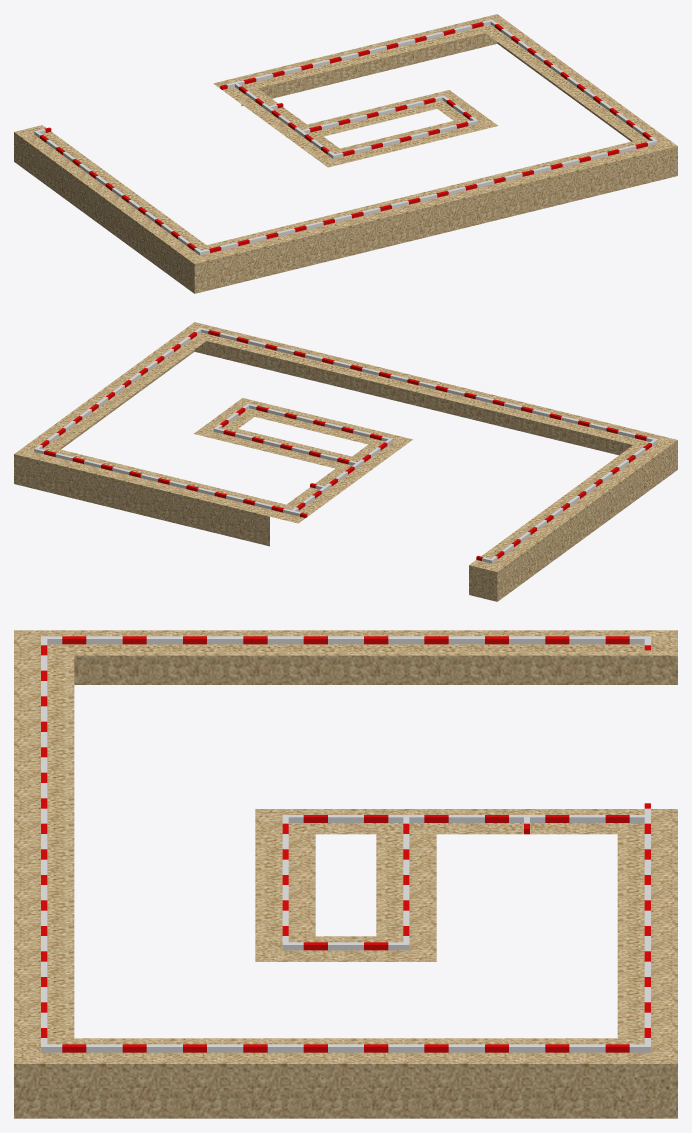
The model's file is Ground17-D.fbx.
3 renders of one model, top to bottom at view 1: azimuth 30°, elevation 25°; view 2: azimuth 150°, elevation 25°; view 3: azimuth 270°, elevation 25°, orthographic. The views are drawn at different scales.
Parts seen in each view (by area): view 1: pCube2722; view 2: pCube2722; view 3: pCube2722.
Part boxes in pixels (left/top/right/bottom): pCube2722: left=14, top=14, right=677, bottom=293; pCube2722: left=14, top=322, right=677, bottom=601; pCube2722: left=14, top=630, right=677, bottom=1118.
Size of the model in its own units: 850 by 55 by 550.
Materials: 3 (1 with a texture image).
